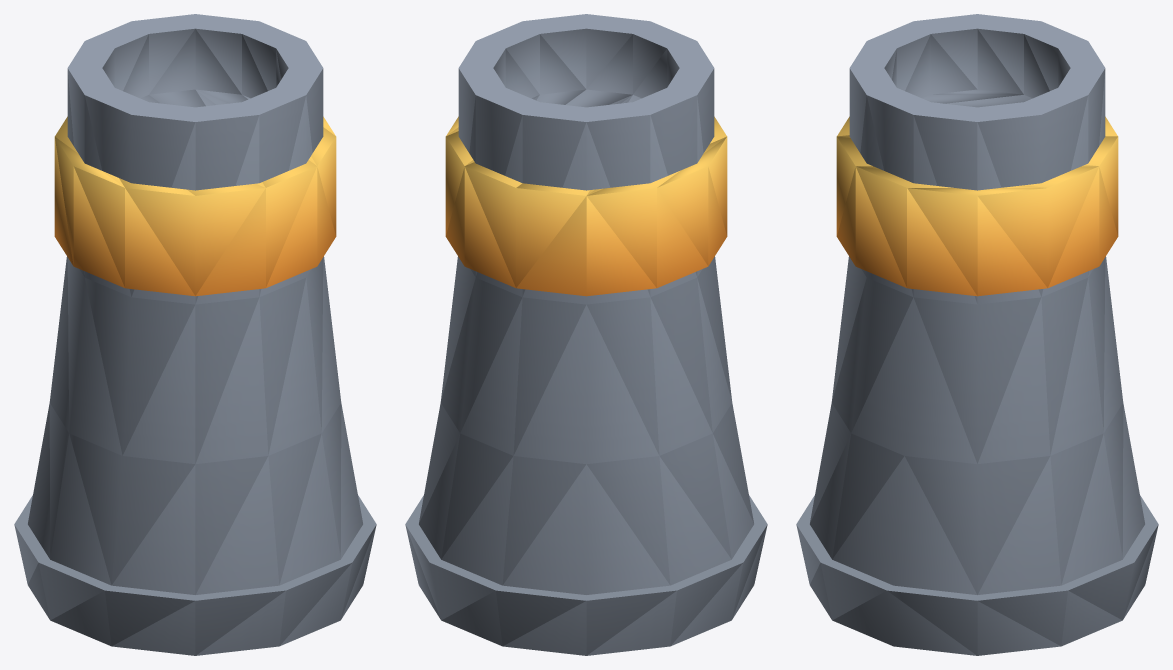
The model's file is ind_chimney_large.fbx.
3 views of the same model, side by side, from view 1: azimuth 30°, elevation 25°; view 2: azimuth 150°, elevation 25°; view 3: azimuth 270°, elevation 25° (orthographic).
Parts seen in each view (by area): view 1: ind_chimney_large; view 2: ind_chimney_large; view 3: ind_chimney_large.
Part boxes in pixels (x1=…): ind_chimney_large: x1=14, y1=14, x2=376, y2=655; ind_chimney_large: x1=405, y1=14, x2=767, y2=655; ind_chimney_large: x1=796, y1=14, x2=1158, y2=655.
Size of the model in its own units: 8.89 by 14 by 8.89.
